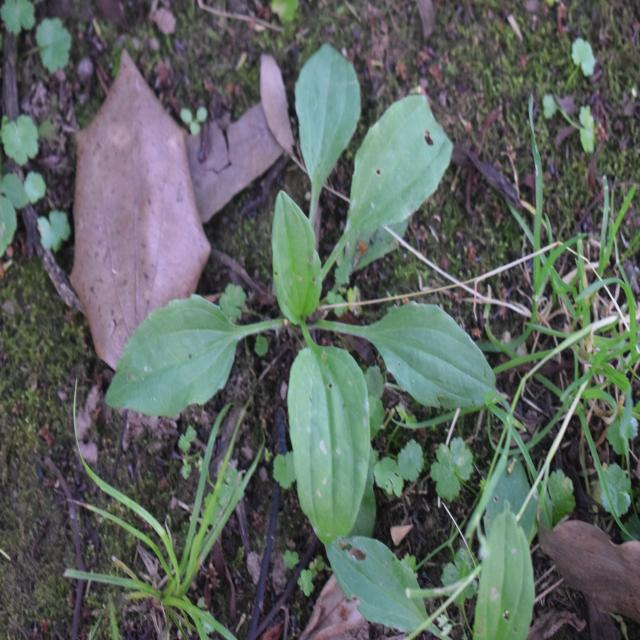plantain: (128, 52, 474, 556)
